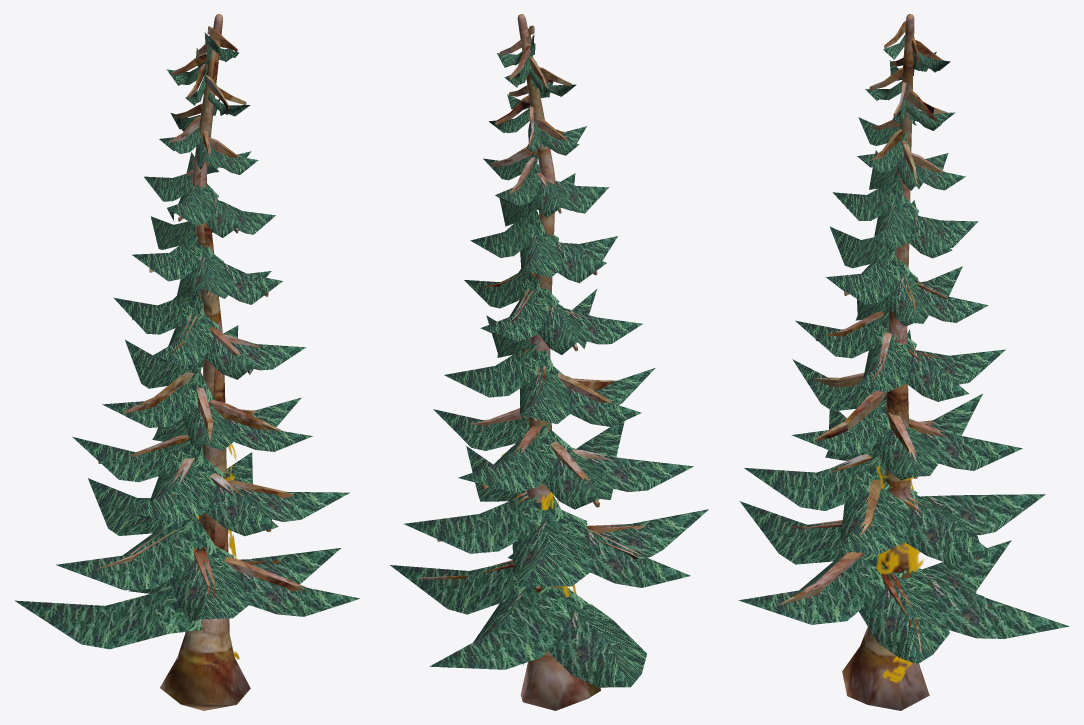
The model's file is tree.glb.
3 views of the same model, side by side, from view 1: azimuth 30°, elevation 25°; view 2: azimuth 150°, elevation 25°; view 3: azimuth 270°, elevation 25° (orthographic). The views are drawn at different scales.
Visible parts, largest first — view 1: tree; view 2: tree; view 3: tree, tree_rune.
Boxes of the visible parts, bbox=[...] form: tree: bbox=[14, 14, 359, 710]; tree: bbox=[390, 14, 708, 710]; tree: bbox=[738, 14, 1069, 710]; tree_rune: bbox=[875, 466, 923, 682].
Size of the model in its own units: 19.06 by 42.66 by 18.21.
Materials: 4 (4 with a texture image).
